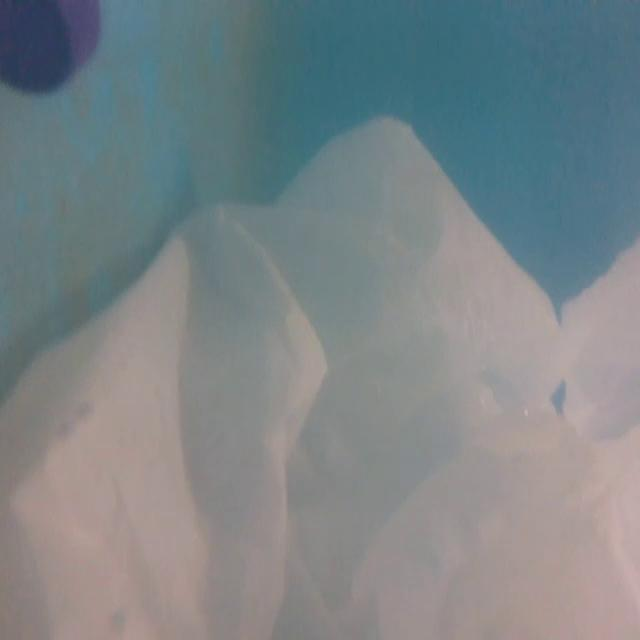plastic bags: (2, 115, 640, 640)
